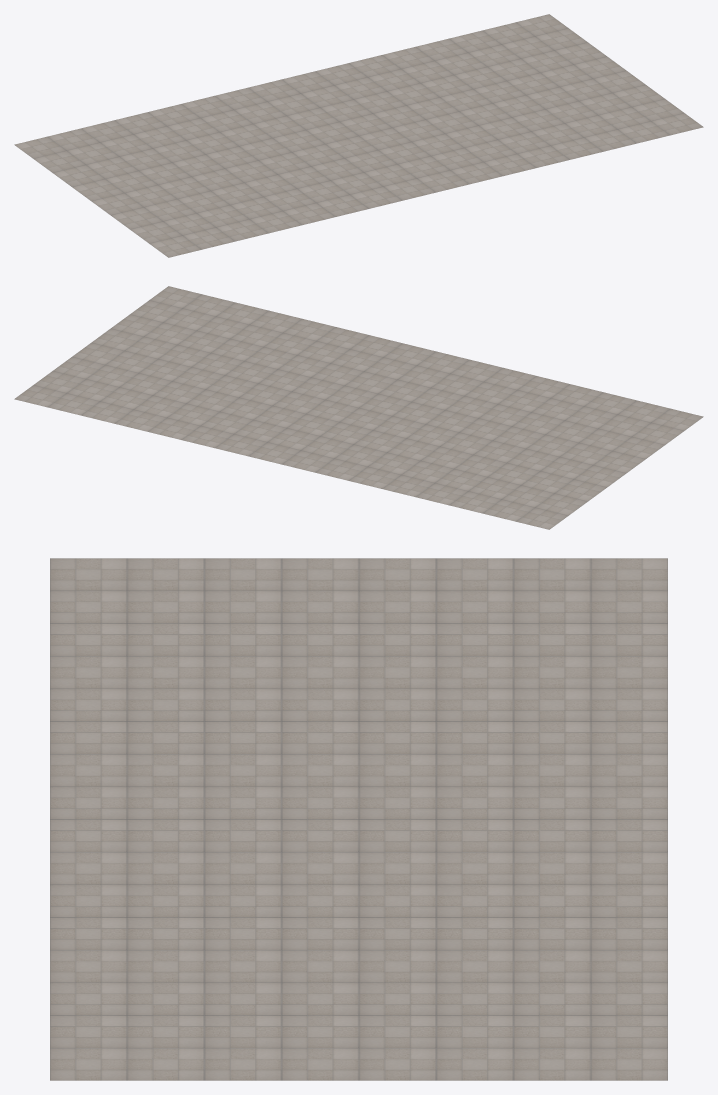
Rendered from techo final.fbx.
3 views of the same model, one above another, from view 1: azimuth 30°, elevation 25°; view 2: azimuth 150°, elevation 25°; view 3: azimuth 270°, elevation 25° (orthographic). The views are drawn at different scales.
Parts seen in each view (by area): view 1: Plane; view 2: Plane; view 3: Plane.
Boxes of the visible parts, box(x1,y1,x2,y2) form: Plane: box(14, 14, 703, 257); Plane: box(14, 286, 703, 529); Plane: box(50, 558, 667, 1080).
Size of the model in its own units: 3200 by 0 by 1600.
1 material, 1 textured.
